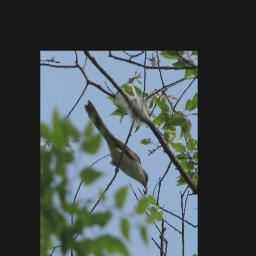Cuckoo: (85, 100, 151, 194)
